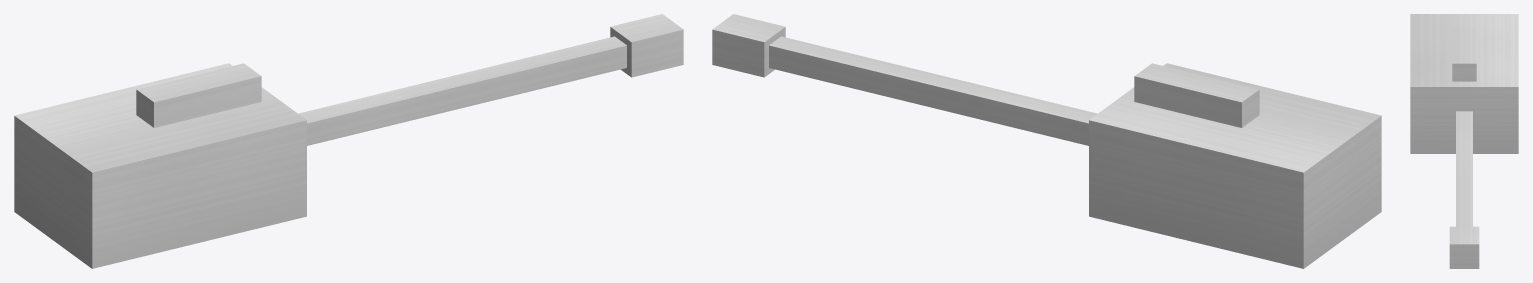
The model's file is turret_gun_sniper.obj.
3 views of the same model, side by side, from view 1: azimuth 30°, elevation 25°; view 2: azimuth 150°, elevation 25°; view 3: azimuth 270°, elevation 25° (orthographic). The views are drawn at different scales.
Parts seen in each view (by area): view 1: turret_gun_sniper; view 2: turret_gun_sniper; view 3: turret_gun_sniper.
Boxes of the visible parts, x1,y1,x2,y2 form: turret_gun_sniper: (14, 14, 683, 268); turret_gun_sniper: (712, 14, 1381, 268); turret_gun_sniper: (1410, 14, 1518, 268).
Bounding box in the file's own units: 2.02 × 0.38 × 0.44.
